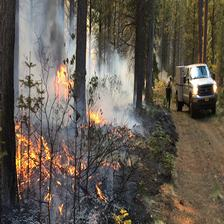fire: (11, 61, 114, 206)
